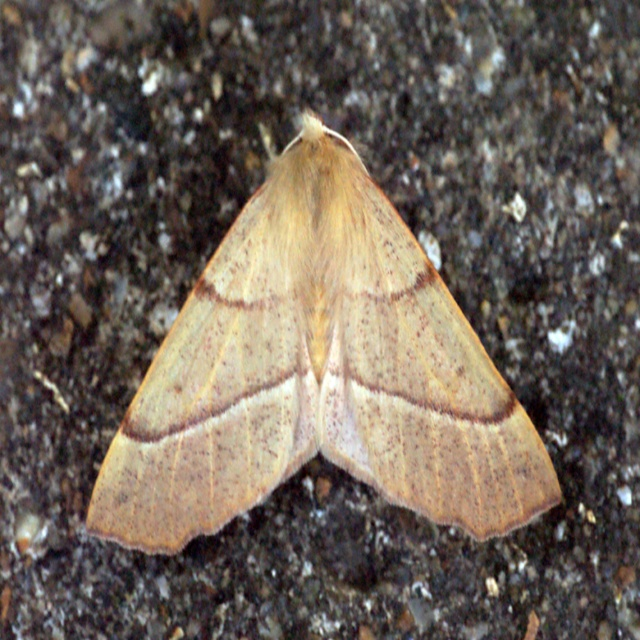Moths and butterflies: (82, 102, 566, 566)
